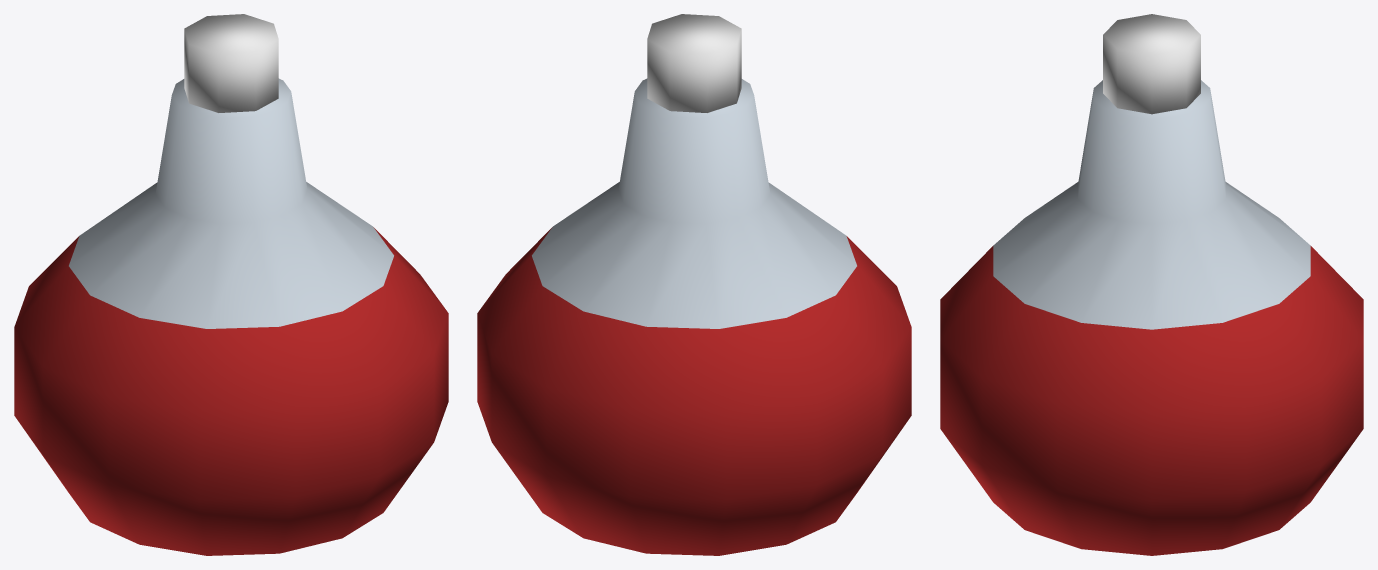
File: red_dye.glb
3 views of the same model, side by side, from view 1: azimuth 30°, elevation 25°; view 2: azimuth 150°, elevation 25°; view 3: azimuth 270°, elevation 25° (orthographic).
Parts seen in each view (by area): view 1: red_dye_v0; view 2: red_dye_v0; view 3: red_dye_v0.
Boxes of the visible parts, left/top/right/bottom form: red_dye_v0: left=14, top=14, right=448, bottom=555; red_dye_v0: left=477, top=14, right=911, bottom=555; red_dye_v0: left=940, top=14, right=1363, bottom=555.
Size of the model in its own units: 0.24 by 0.276 by 0.234.
